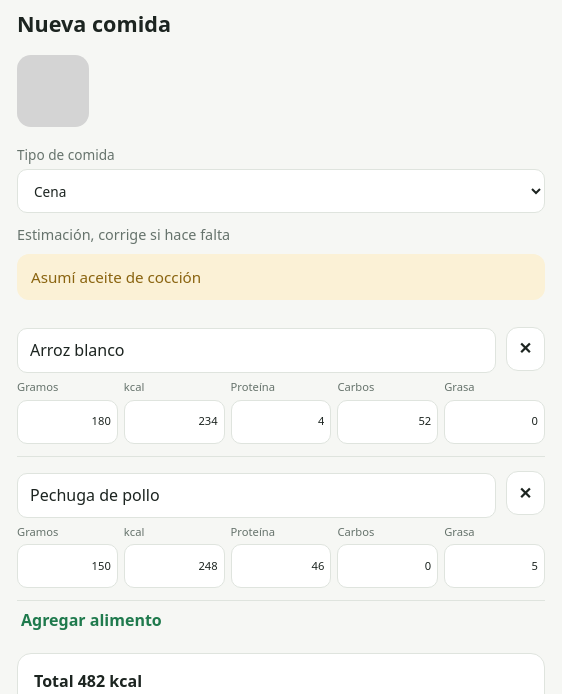
Test: cambiar los gramos recalcula calorías y total
Expected: the 1st field showing "Arroz blanco" is shown, [17,328,496,373]
Step 1. Replace the text in the 1st field labelled "Gramos" with "90" → (67, 422), box [17,400,118,444]
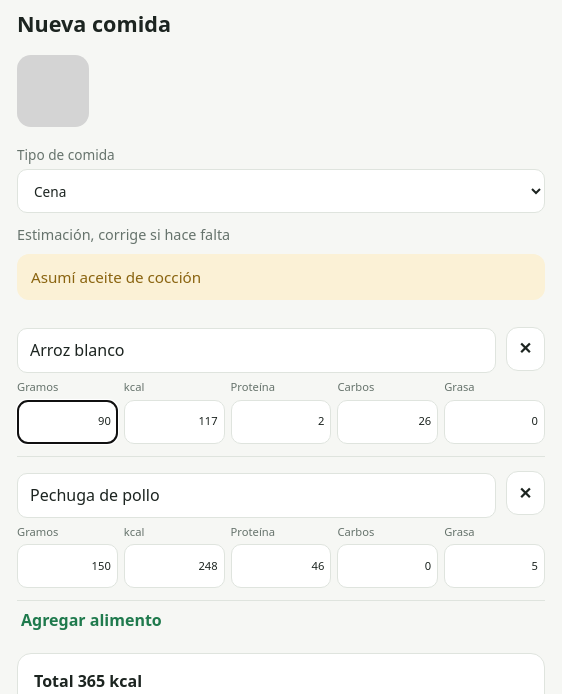
Result: the 1st field labelled "kcal" holds "117" at [124,400,225,444]
Result: the text "Total 365 kcal" is shown at [34,670,142,692]
